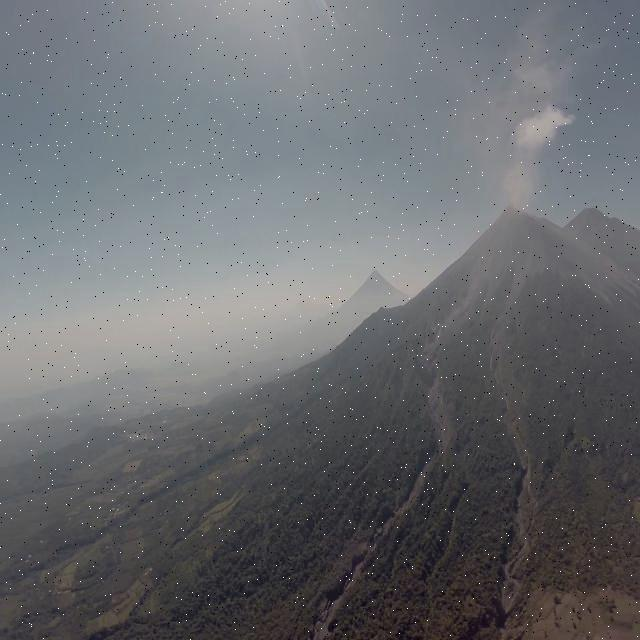Plume: (490, 100, 572, 218)
Summit: (493, 202, 545, 232)
